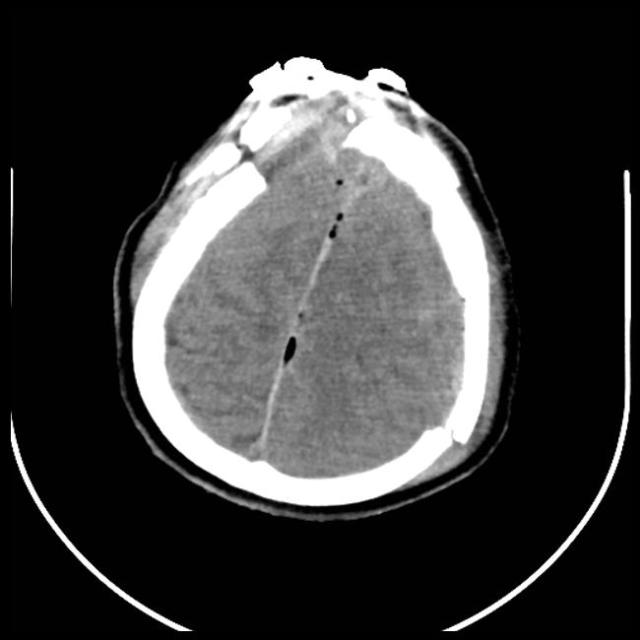lesion: (109, 53, 523, 519)
